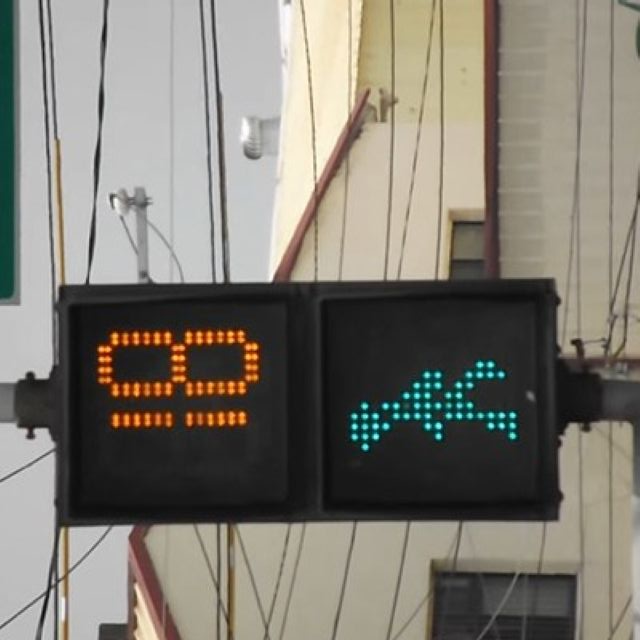green_light: (55, 288, 561, 523)
